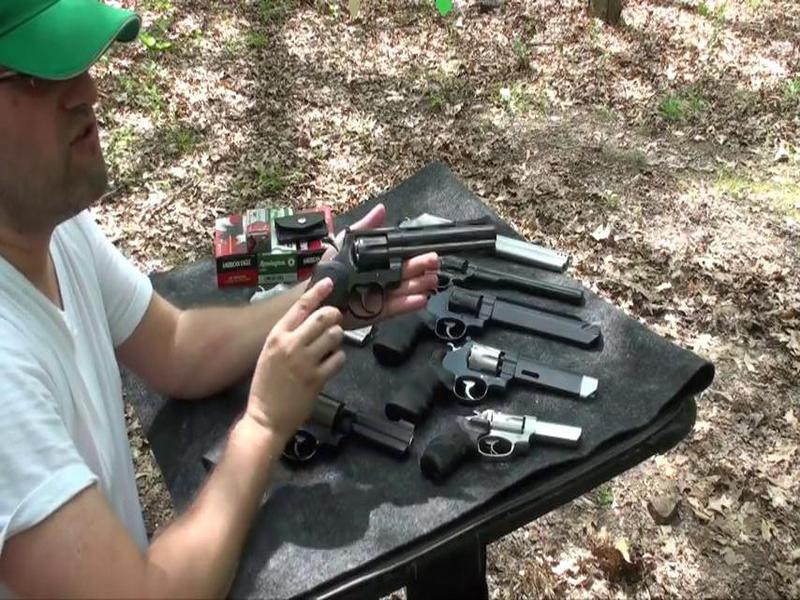Revolver: (296, 211, 516, 364)
